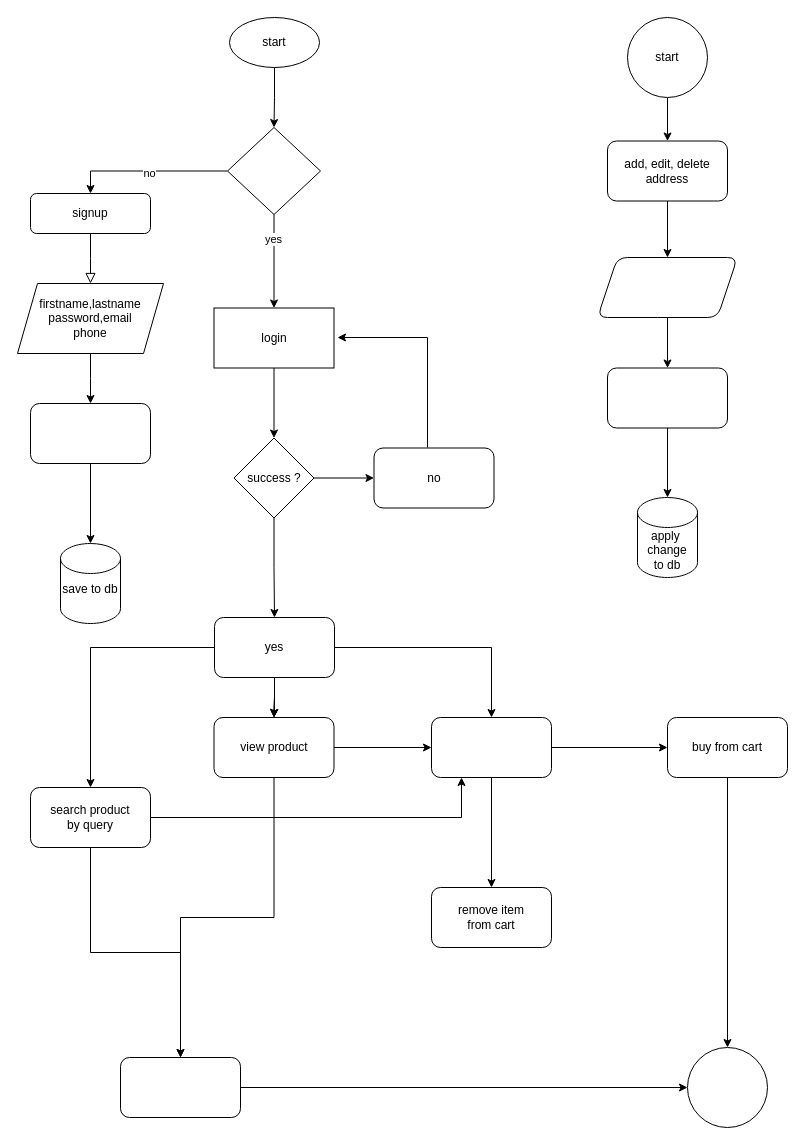
Some shapes in this 805 by 1145 pixel diagram are drawn without their labels. Each missing label, with the centre of its shape:
"add product to cart" belongs at point (491, 747).
"add/delete house, street, city, pincode" belongs at point (667, 287).
"add/edit success" belongs at point (667, 397).
"end" belongs at point (727, 1087).
"Have you registered?" belongs at point (273, 170).
"instant buy" belongs at point (180, 1087).
"signup success" belongs at point (90, 433).
